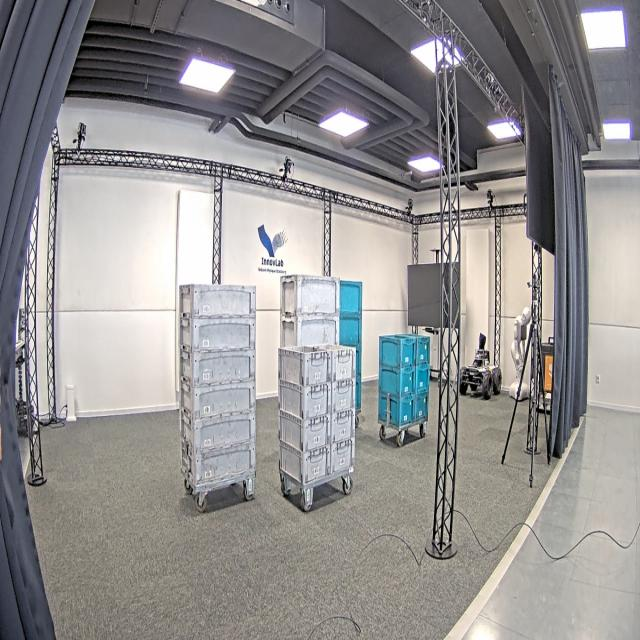Box3G: (179, 410, 256, 453), (184, 442, 257, 486), (179, 380, 256, 420), (178, 348, 256, 385), (178, 284, 257, 320), (178, 318, 256, 354)
Box4G: (280, 274, 340, 316), (286, 316, 341, 350)
Box8G: (282, 442, 332, 485), (280, 410, 330, 452), (280, 378, 331, 418), (280, 347, 332, 385), (331, 435, 357, 474), (328, 407, 355, 443), (330, 374, 356, 411), (330, 346, 356, 378)
BoxB4: (339, 315, 364, 352), (340, 280, 364, 316)
BoxB8: (376, 391, 414, 426), (378, 335, 416, 369), (376, 367, 414, 400), (415, 336, 431, 366), (414, 363, 430, 392), (414, 390, 429, 420)
